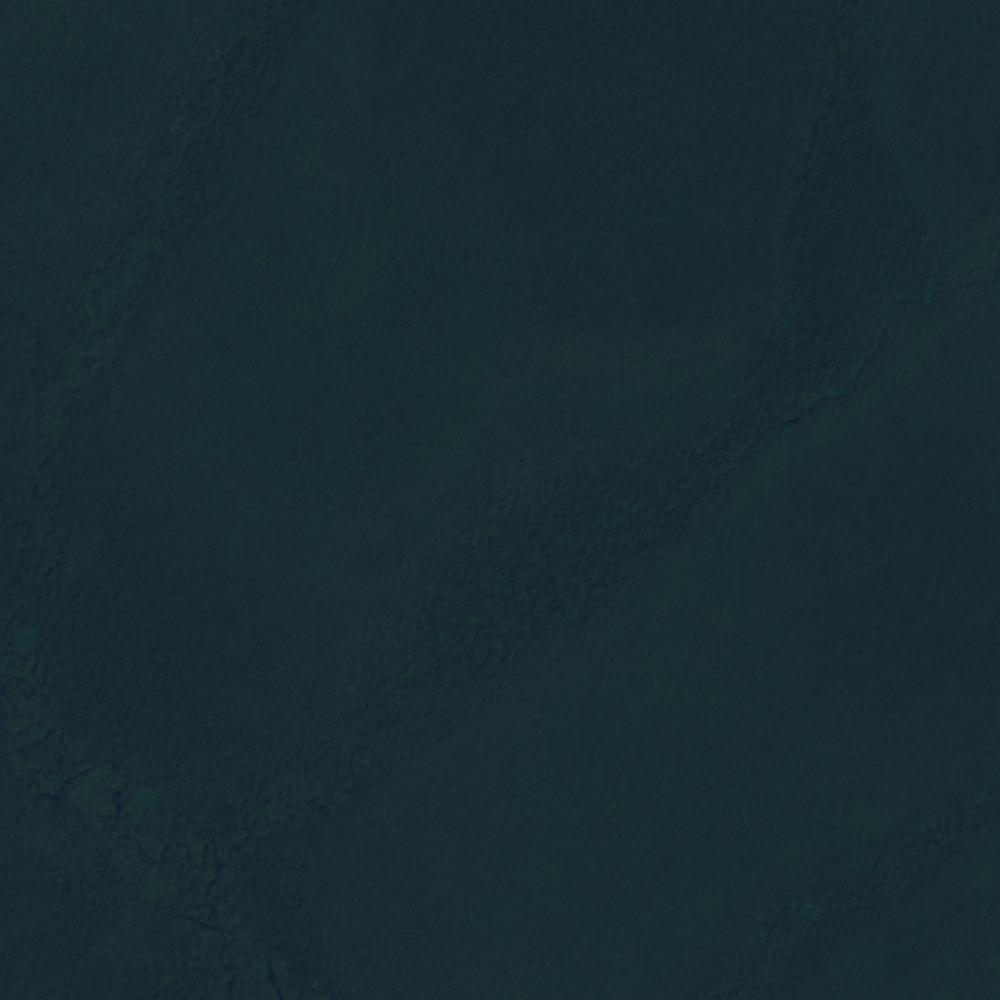illegal: (799, 886, 836, 925)
